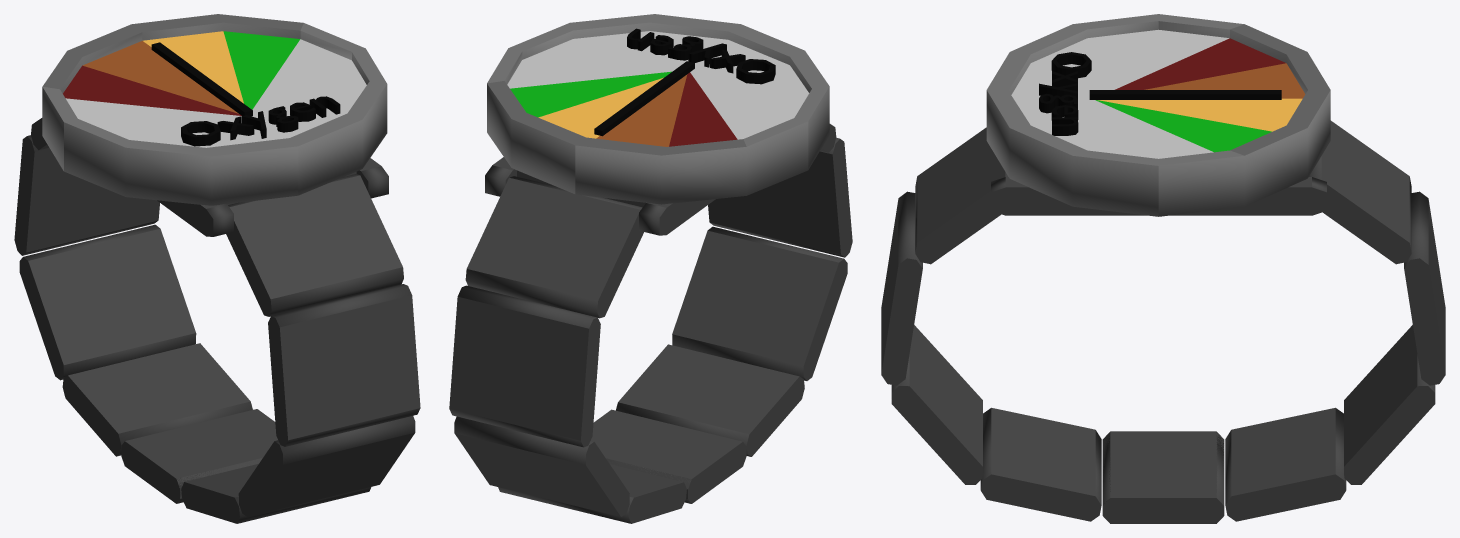
The model's file is Watch.fbx.
3 views of the same model, side by side, from view 1: azimuth 30°, elevation 25°; view 2: azimuth 150°, elevation 25°; view 3: azimuth 270°, elevation 25° (orthographic). The views are drawn at different scales.
Visible parts, largest first — view 1: Chain, WatchArm; view 2: Chain, WatchArm; view 3: Chain, WatchArm.
Part boxes in pixels (x1,y1,x2,y2): Chain: (14,14,420,523); WatchArm: (151,42,252,116); Chain: (449,14,852,523); WatchArm: (594,61,694,136); Chain: (881,14,1445,523); WatchArm: (1089,90,1281,99).
Bounding box in the file's own units: 458 × 562 × 720.
